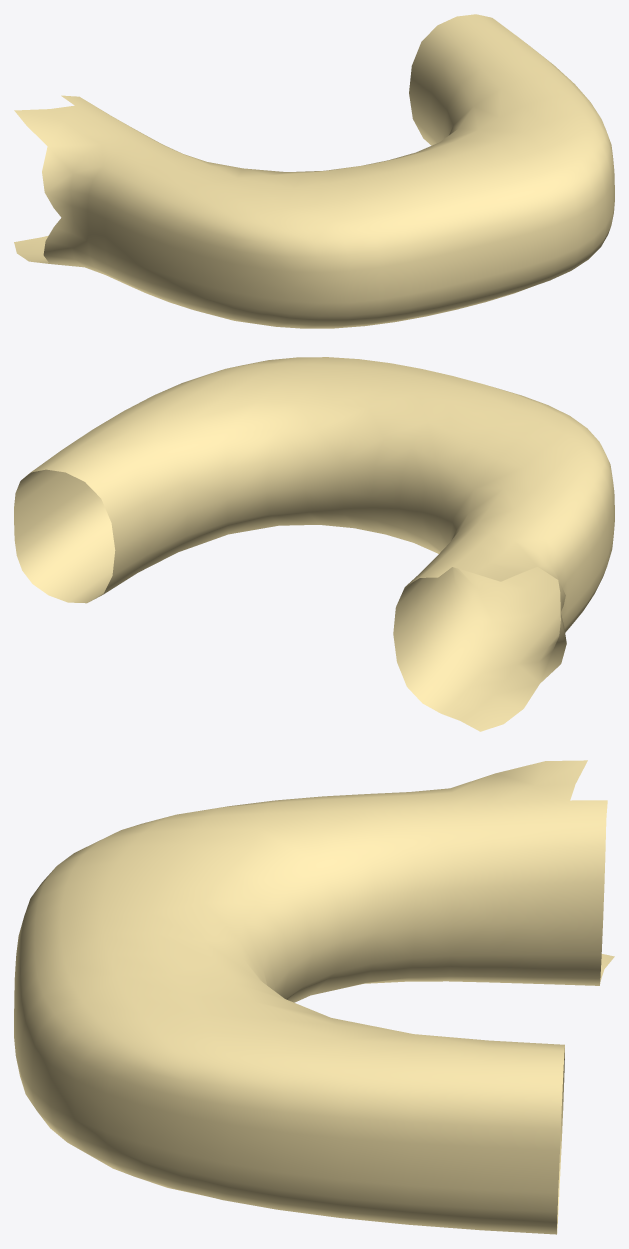
File: Key 1.fbx
3 views of the same model, one above another, from view 1: azimuth 30°, elevation 25°; view 2: azimuth 150°, elevation 25°; view 3: azimuth 270°, elevation 25° (orthographic). The views are drawn at different scales.
Parts seen in each view (by area): view 1: Cylinder; view 2: Cylinder; view 3: Cylinder.
Boxes of the visible parts, bbox=[...] form: Cylinder: bbox=[14, 14, 614, 328]; Cylinder: bbox=[14, 357, 614, 731]; Cylinder: bbox=[14, 760, 614, 1234].
Size of the model in its own units: 20.51 by 5.71 by 15.86.
